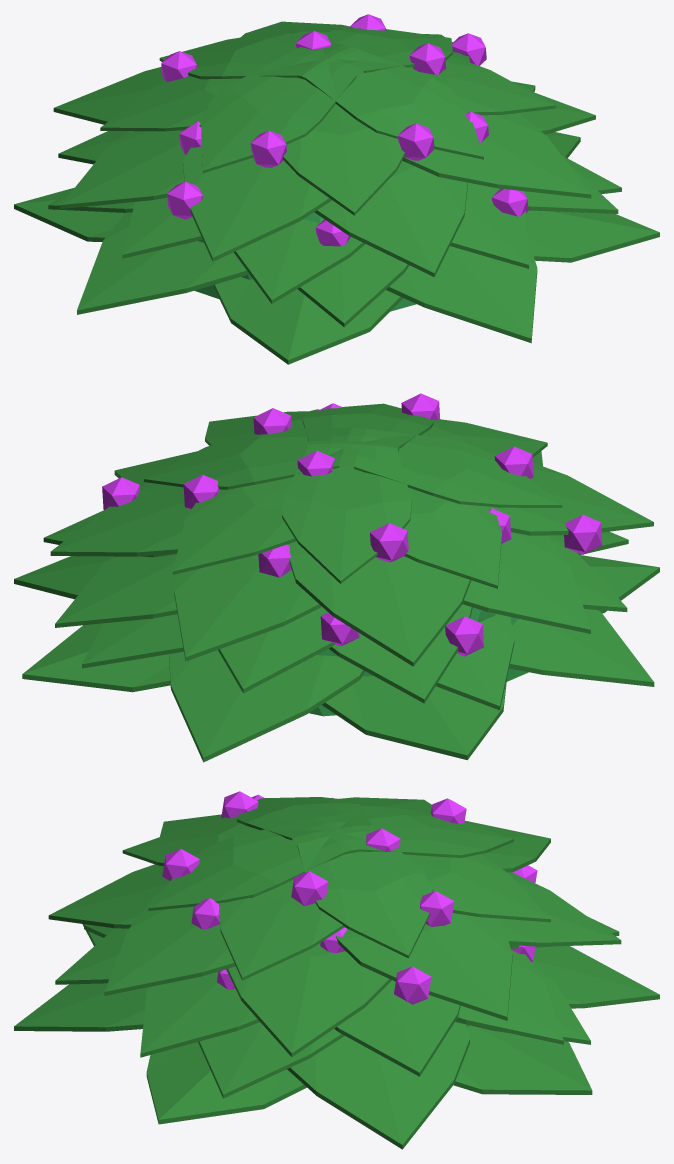
The model's file is BushLPurpleFruits.fbx.
3 views of the same model, one above another, from view 1: azimuth 30°, elevation 25°; view 2: azimuth 150°, elevation 25°; view 3: azimuth 270°, elevation 25° (orthographic). The views are drawn at different scales.
Parts seen in each view (by area): view 1: BushLPurpleFruits; view 2: BushLPurpleFruits; view 3: BushLPurpleFruits.
Part boxes in pixels (<box>): BushLPurpleFruits: <box>14,14,659,364</box>; BushLPurpleFruits: <box>14,393,659,762</box>; BushLPurpleFruits: <box>14,791,659,1149</box>.
Bounding box in the file's own units: 1000 × 320 × 1007.
